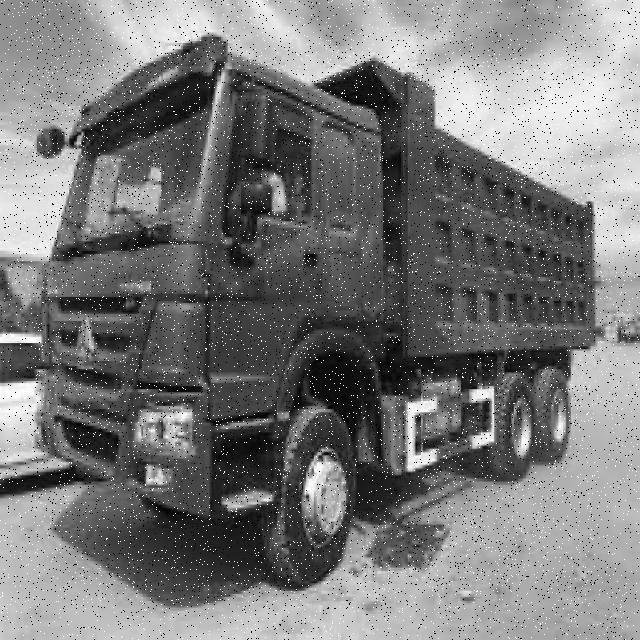Truck- Multi-Axle: (34, 35, 598, 592)
